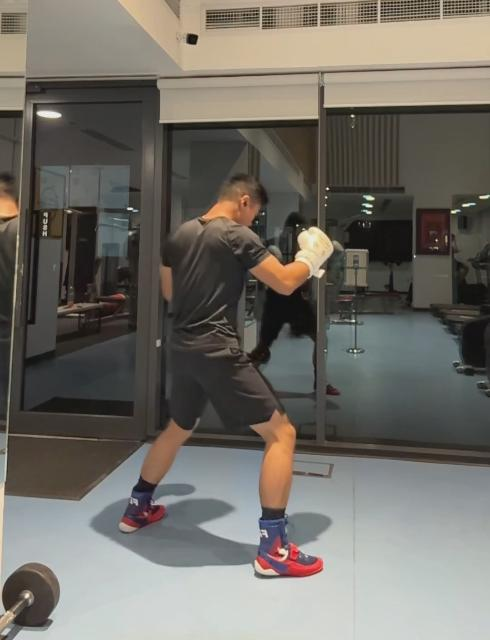punch: (116, 172, 332, 580)
